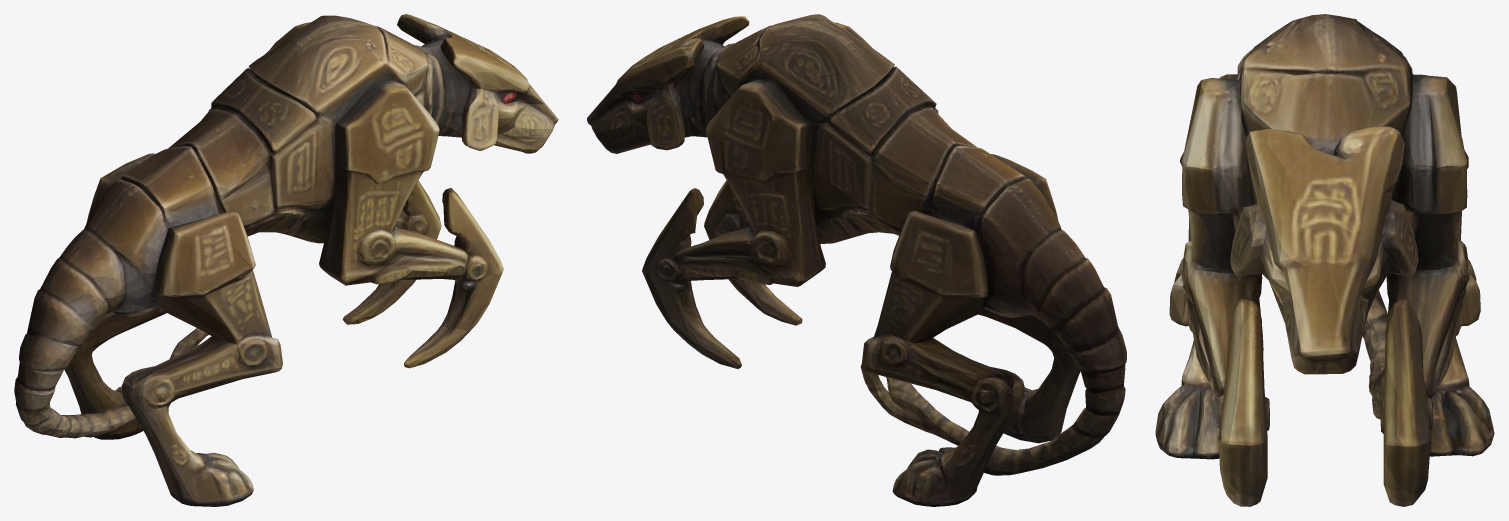
File: mentorConstructC.glb
The picture shows the model from 3 angles, left to right: view 1: azimuth 30°, elevation 25°; view 2: azimuth 150°, elevation 25°; view 3: azimuth 270°, elevation 25°; orthographic projection. The views are drawn at different scales.
Parts seen in each view (by area): view 1: world; view 2: world; view 3: world.
Boxes of the visible parts, x1=… form: world: x1=14, y1=14, x2=558, y2=506; world: x1=587, y1=14, x2=1126, y2=506; world: x1=1155, y1=14, x2=1494, y2=506.
Size of the model in its own units: 1 by 0.713 by 0.4159.
Materials: 1 (1 with a texture image).
